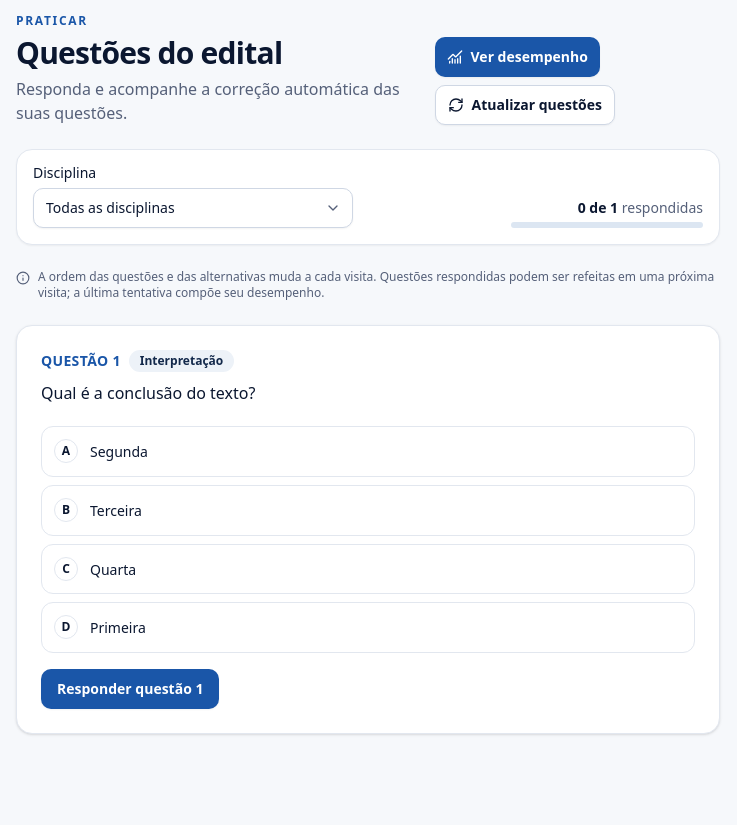
Test case: embaralha as alternativas e envia o indice original
Expected: the text "Qual é a conclusão do texto?" is shown, [41, 382, 255, 404]
Expected: the radio button named "D. Primeira" is shown, [41, 602, 695, 653]
Step 1. Click the radio button named "A. Segunda" → (119, 452), box [41, 426, 695, 477]
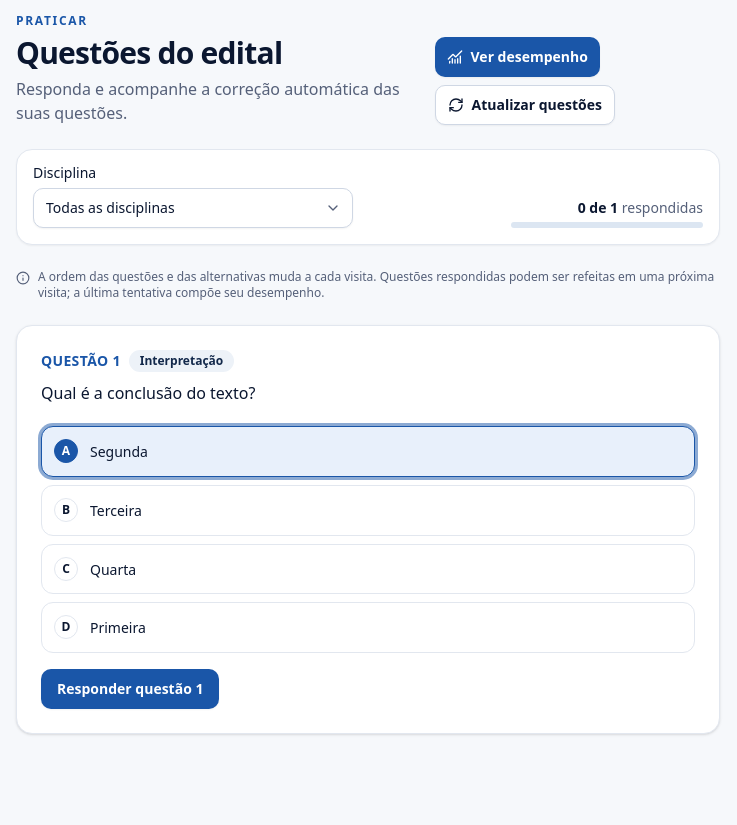
Step 2. Click the button "Responder questão 1" → (130, 689), box [41, 669, 220, 709]
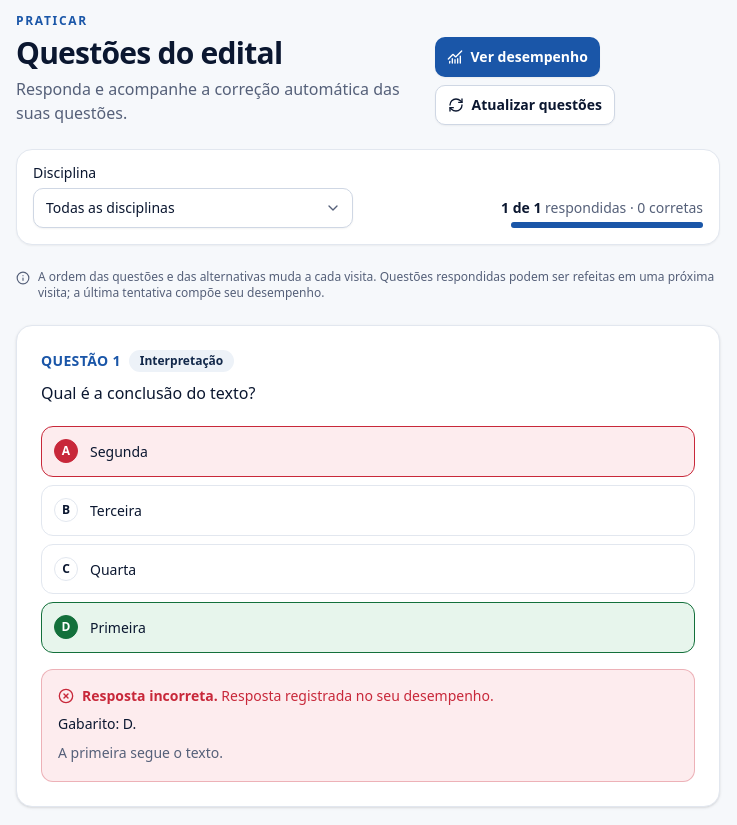
Now the text "Gabarito: D." is shown, box [58, 714, 136, 733]
